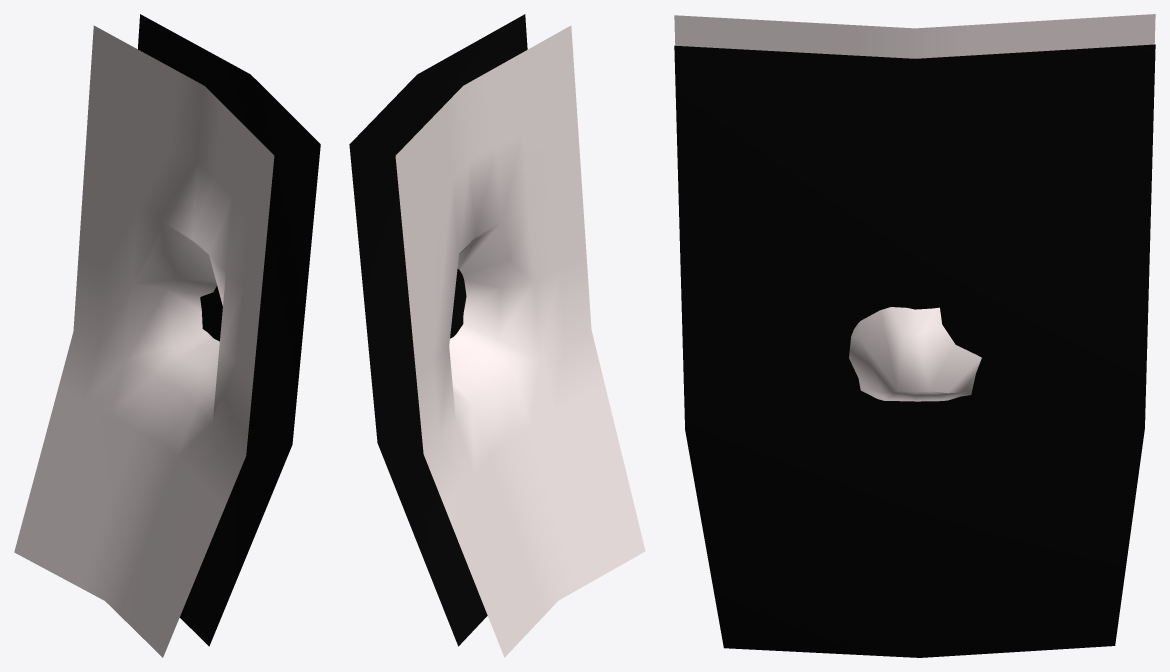
File: nose 3.fbx
3 renders of one model, left to right at view 1: azimuth 30°, elevation 25°; view 2: azimuth 150°, elevation 25°; view 3: azimuth 270°, elevation 25°, orthographic. The views are drawn at different scales.
Parts seen in each view (by area): view 1: Nose 5; view 2: Nose 5; view 3: Nose 5.
Boxes of the visible parts, box(x1,y1,x2,y2) form: Nose 5: box(14, 14, 320, 657); Nose 5: box(349, 14, 645, 657); Nose 5: box(674, 14, 1155, 657).
Bounding box in the file's own units: 43.86 × 116 × 76.19.
2 materials, 1 textured.
